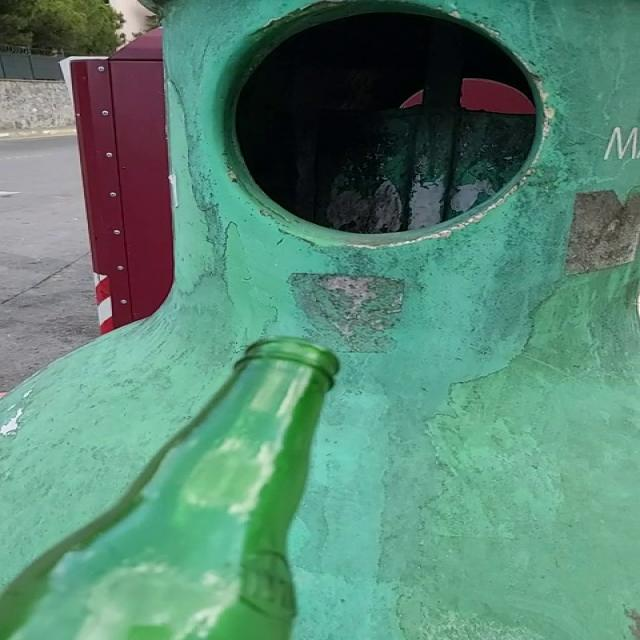glass: (0, 339, 339, 640)
